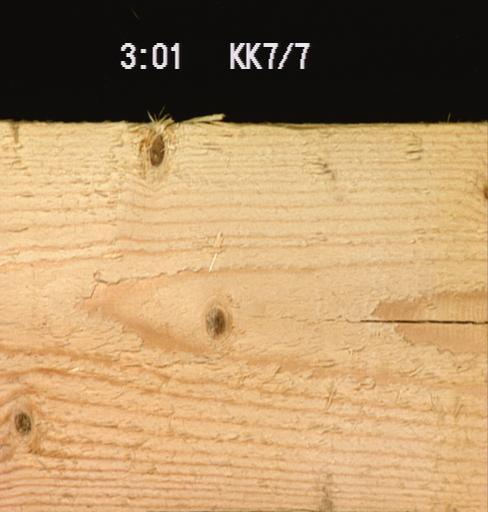dry_knot: (146, 133, 164, 167)
sound_knot: (202, 304, 227, 341), (11, 410, 32, 435)
split: (357, 317, 487, 326)
